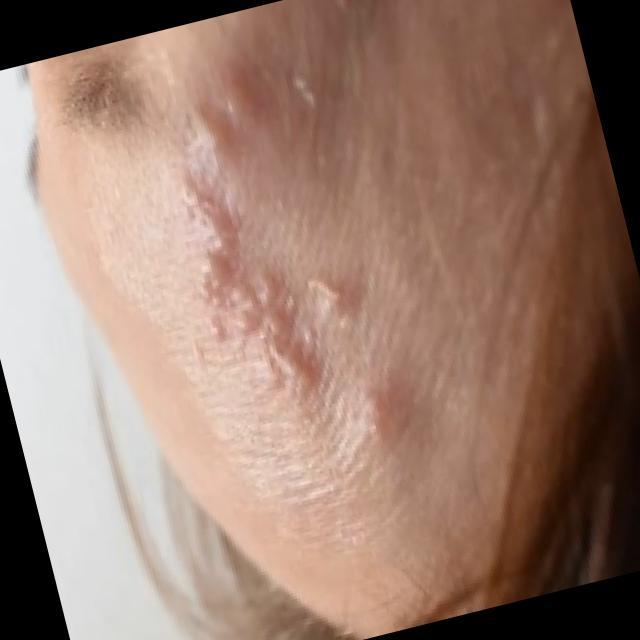Eczema: (185, 57, 400, 440)
